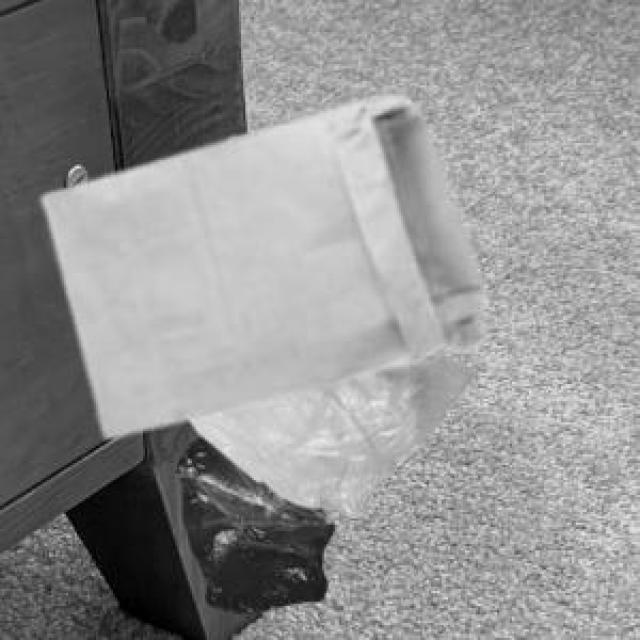paper: (38, 92, 480, 433)
